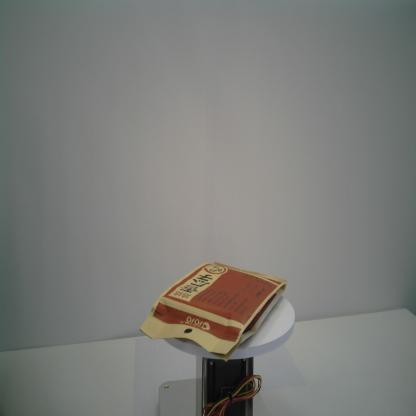Dried Food: (137, 261, 290, 366)
